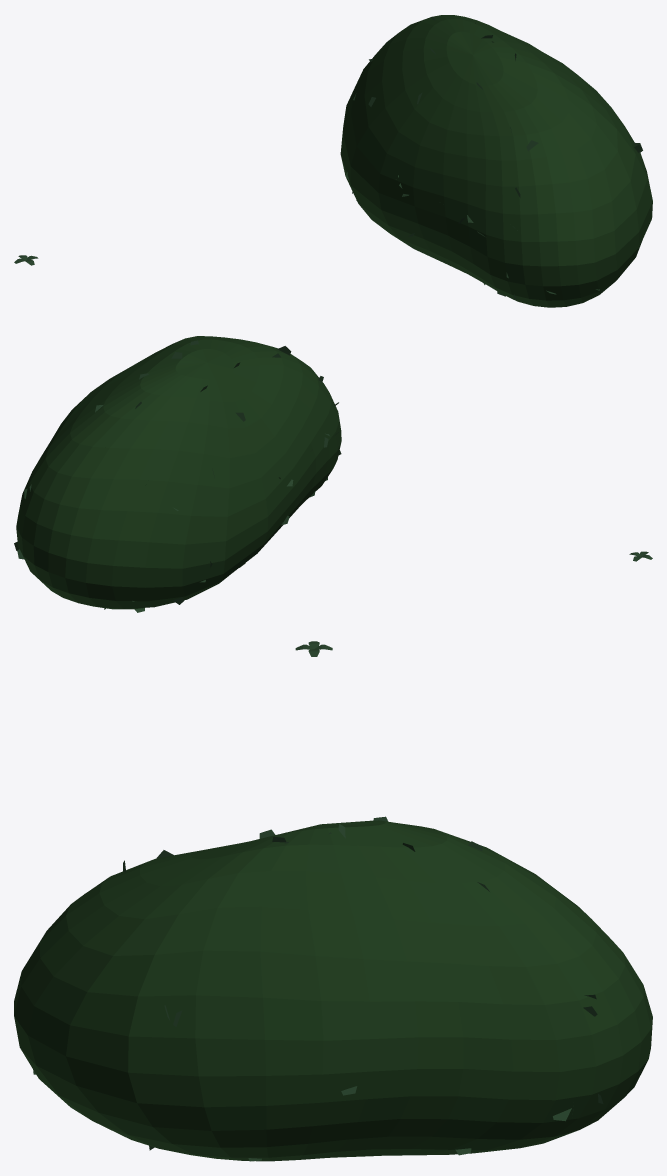
Rendered from struik.fbx.
The picture shows the model from 3 angles, top to bottom: view 1: azimuth 30°, elevation 25°; view 2: azimuth 150°, elevation 25°; view 3: azimuth 270°, elevation 25°; orthographic projection. The views are drawn at different scales.
Visible parts, largest first — view 1: Sphere; view 2: Sphere; view 3: Sphere.
Boxes of the visible parts, x1=… form: Sphere: x1=340, y1=15, x2=652, y2=307; Sphere: x1=16, y1=336, x2=341, y2=609; Sphere: x1=14, y1=820, x2=652, y2=1161.
Size of the model in its own units: 627 by 226 by 410.
